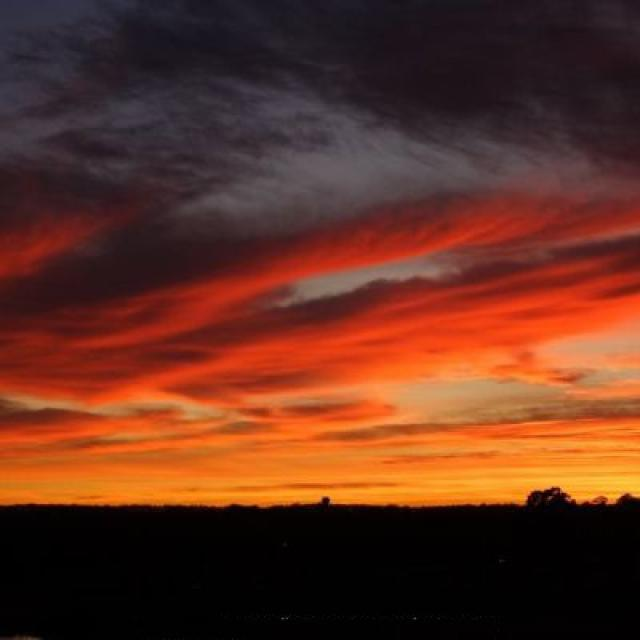As: (1, 16, 640, 456)
